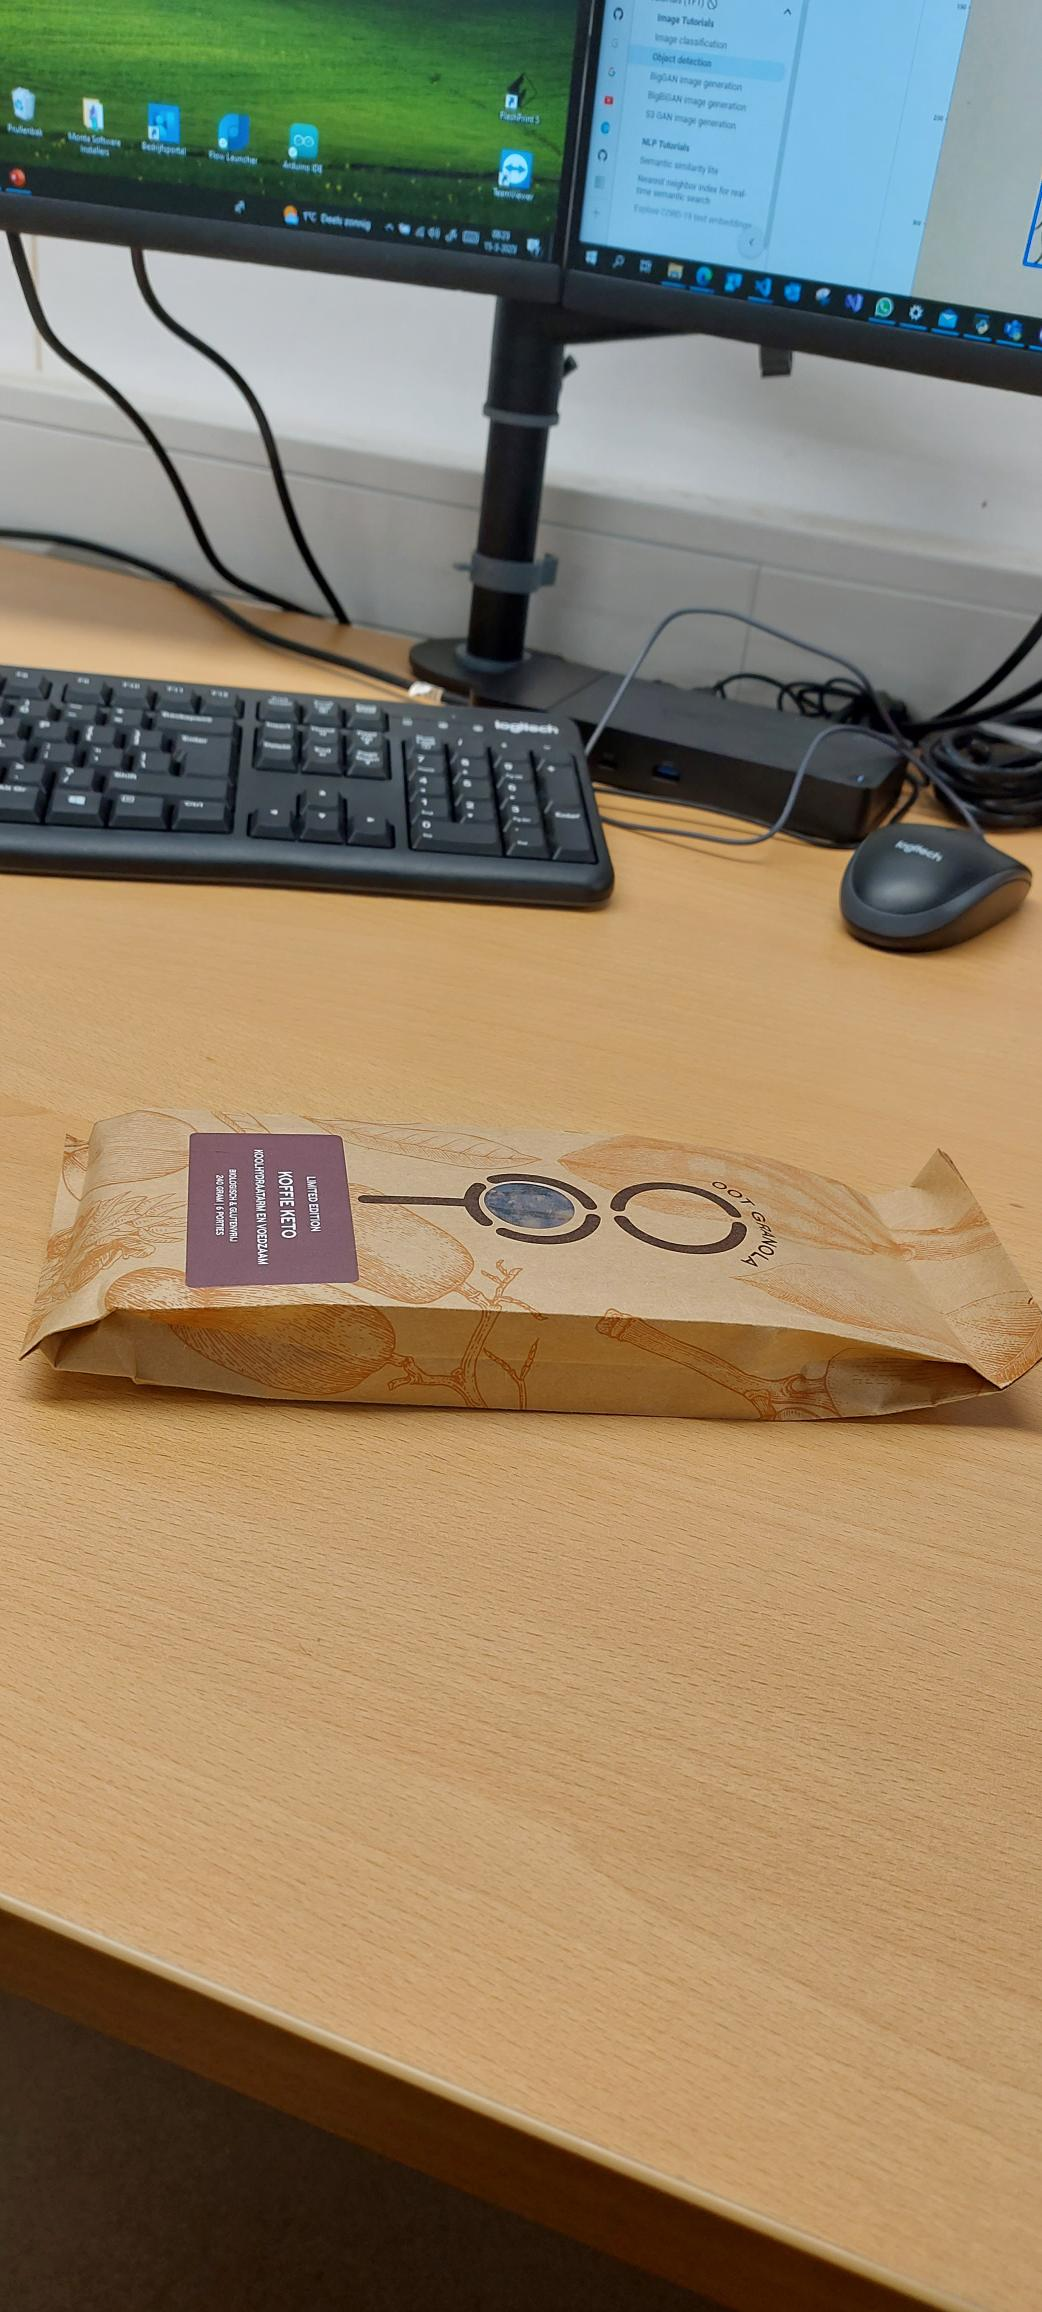KoffieKeto: (174, 1127, 379, 1302)
